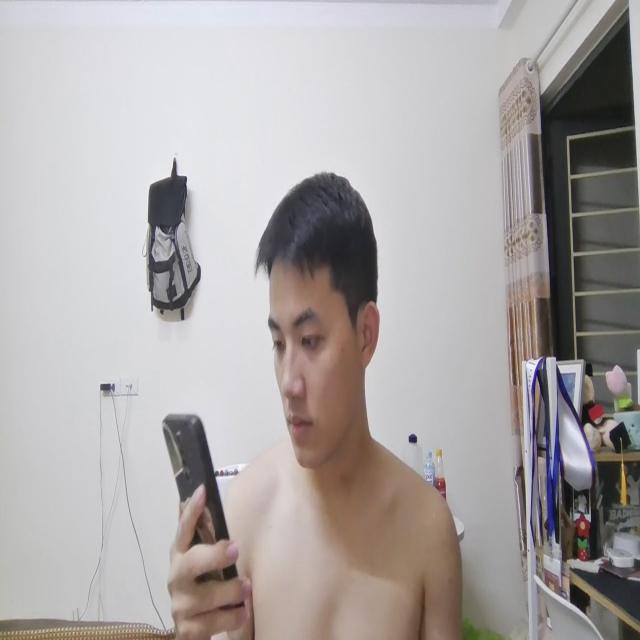phone: (155, 399, 243, 586)
student: (241, 163, 409, 492)
